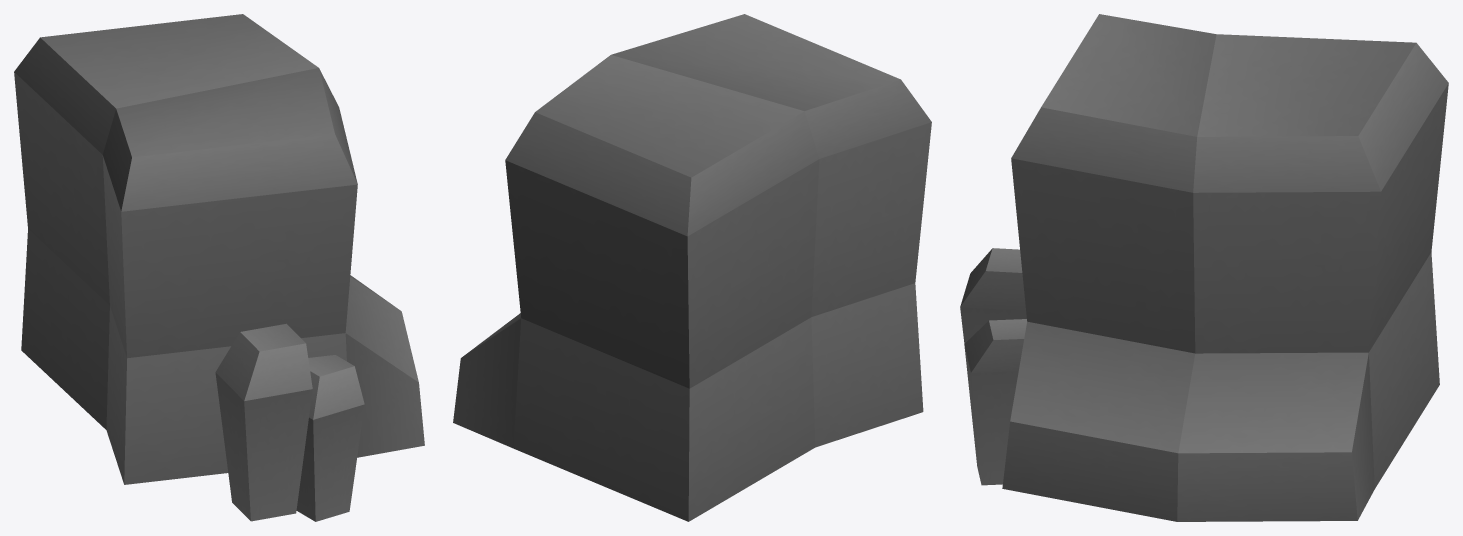
Rendered from pack02_rocks_23.fbx.
3 renders of one model, left to right at view 1: azimuth 30°, elevation 25°; view 2: azimuth 150°, elevation 25°; view 3: azimuth 270°, elevation 25°, orthographic. The views are drawn at different scales.
Parts seen in each view (by area): view 1: Rock Type6 03 mesh; view 2: Rock Type6 03 mesh; view 3: Rock Type6 03 mesh.
Boxes of the visible parts, x1,y1,x2,y2 form: Rock Type6 03 mesh: [14, 14, 424, 521]; Rock Type6 03 mesh: [453, 14, 931, 521]; Rock Type6 03 mesh: [960, 14, 1448, 521].
Size of the model in its own units: 111 by 114 by 131.
Materials: 1 (1 with a texture image).
